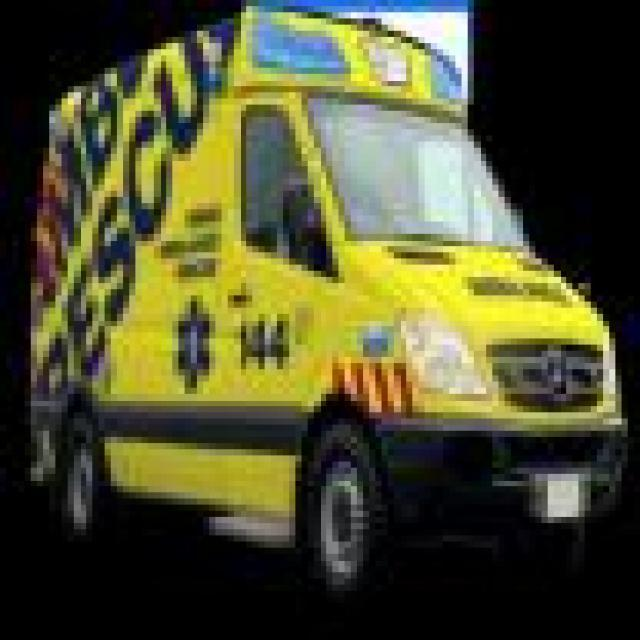emergency-vehicle: (28, 3, 624, 594)
